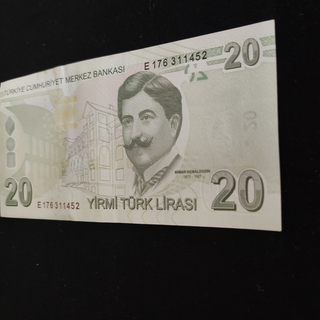20TLBack: (0, 18, 282, 231)
